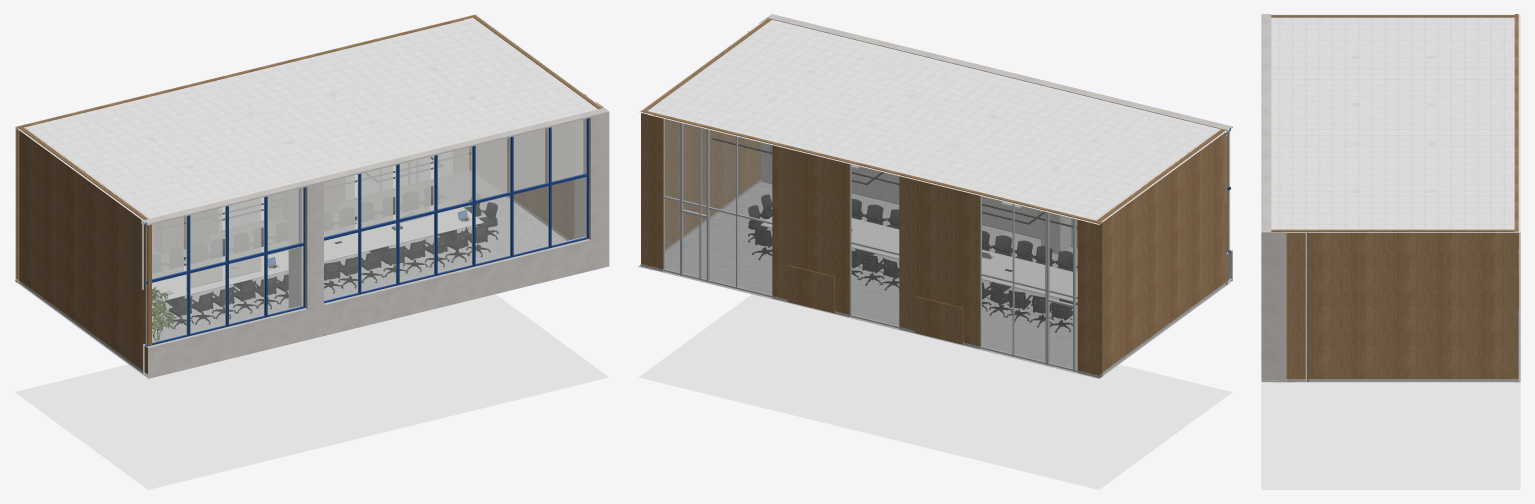
Rendered from cda.glb.
3 views of the same model, side by side, from view 1: azimuth 30°, elevation 25°; view 2: azimuth 150°, elevation 25°; view 3: azimuth 270°, elevation 25° (orthographic). The views are drawn at different scales.
Parts seen in each view (by area): view 1: BAKE_statico, Vetri.001, BAKE_sedie; view 2: BAKE_statico, Vetri.001, BAKE_sedie, Lampade lineari.001; view 3: BAKE_statico.
Boxes of the visible parts, box(x1,y1,x2,y2) form: BAKE_statico: box(15, 14, 609, 489); Vetri.001: box(146, 119, 586, 344); BAKE_sedie: box(169, 186, 498, 329); BAKE_statico: box(638, 14, 1232, 489); Vetri.001: box(664, 119, 1229, 369); BAKE_sedie: box(748, 194, 1077, 332); Lampade lineari.001: box(712, 138, 1077, 228); BAKE_statico: box(1261, 14, 1520, 489).
Size of the model in its own units: 15.65 by 8.62 by 7.86.
Materials: 22 (11 with a texture image).
